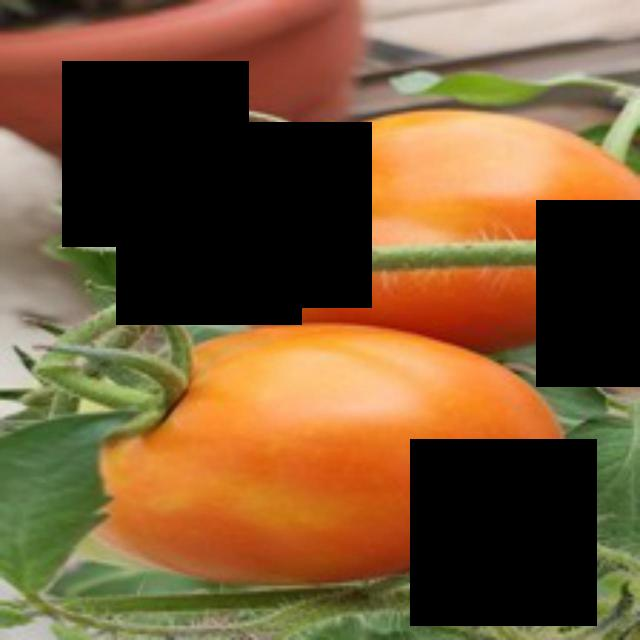tomato: (105, 303, 577, 592)
